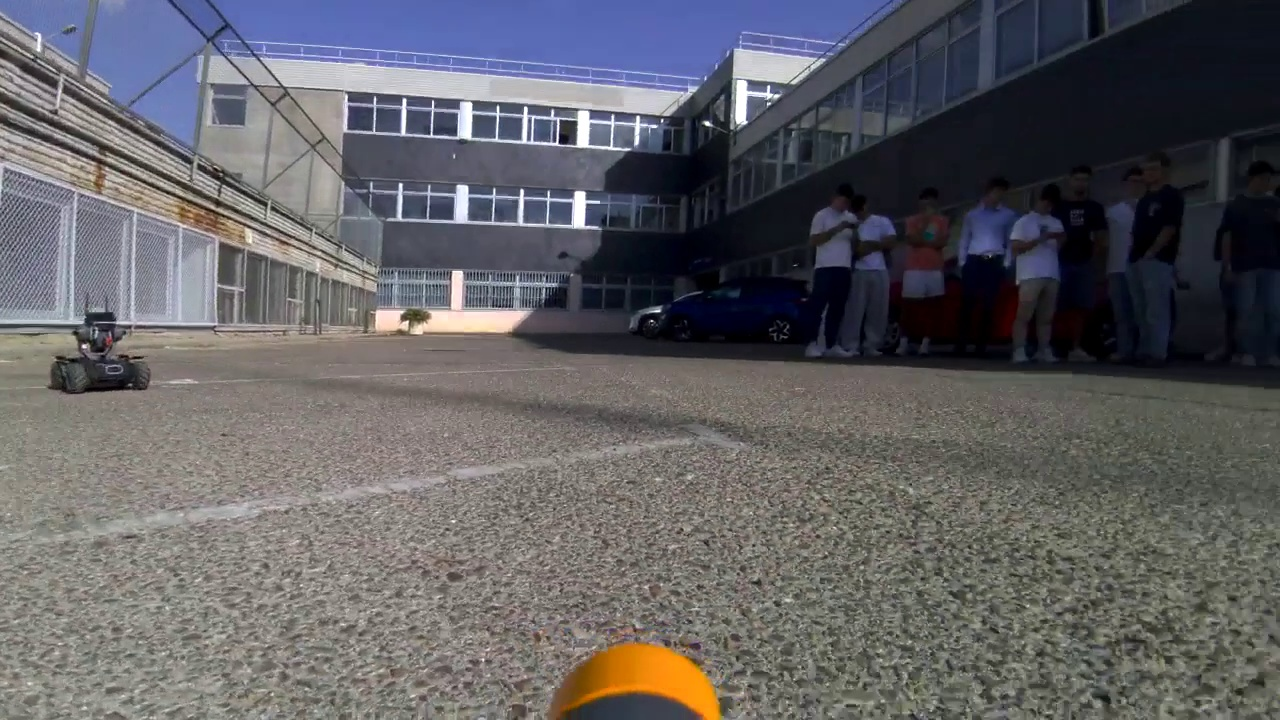robot: (36, 305, 172, 393)
